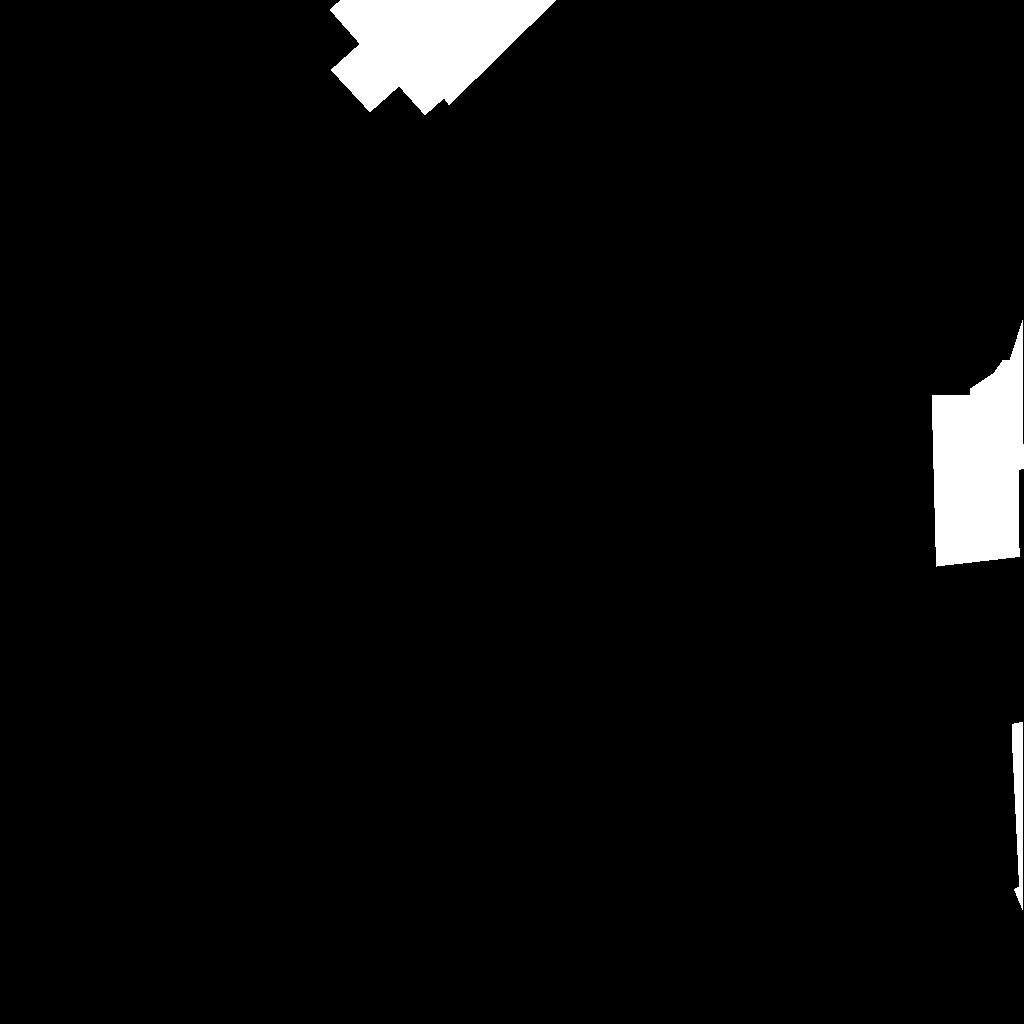building: (330, 0, 557, 116), (932, 319, 1024, 567), (1012, 722, 1024, 912)
